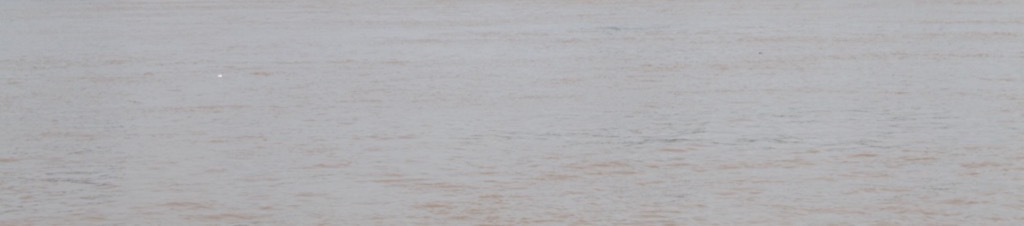organic: (751, 45, 771, 59)
plastic: (206, 65, 237, 89)
